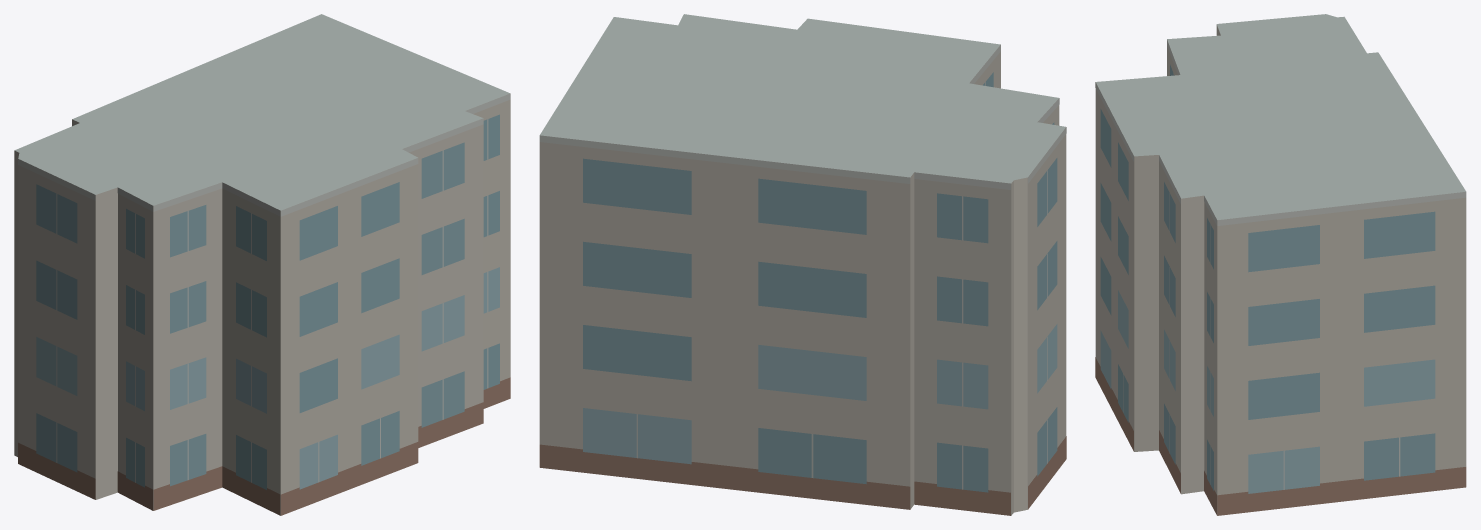
File: survey-upis-32821081.glb
3 views of the same model, side by side, from view 1: azimuth 30°, elevation 25°; view 2: azimuth 150°, elevation 25°; view 3: azimuth 270°, elevation 25° (orthographic). The views are drawn at different scales.
Visible parts, largest first — view 1: survey-upis-32821081.tmp; view 2: survey-upis-32821081.tmp; view 3: survey-upis-32821081.tmp.
Boxes of the visible parts, x1,y1,x2,y2 form: survey-upis-32821081.tmp: (14,14,510,515); survey-upis-32821081.tmp: (539,14,1066,515); survey-upis-32821081.tmp: (1095,14,1466,515).
Size of the model in its own units: 18.26 by 12.2 by 13.88.
